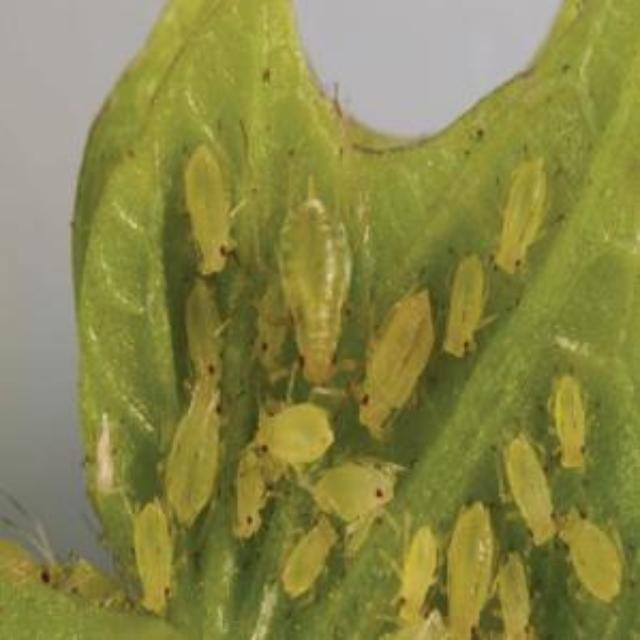Green peach aphid: (272, 180, 362, 392), (350, 276, 442, 440), (136, 373, 230, 529), (157, 130, 256, 276), (478, 158, 570, 284), (544, 494, 632, 624), (480, 414, 564, 544), (533, 361, 619, 483), (107, 496, 197, 612), (299, 452, 411, 538), (429, 252, 508, 368), (438, 492, 499, 640), (163, 276, 244, 386), (213, 442, 297, 544), (268, 506, 344, 616), (238, 390, 344, 466), (483, 544, 553, 640), (393, 518, 451, 628)
